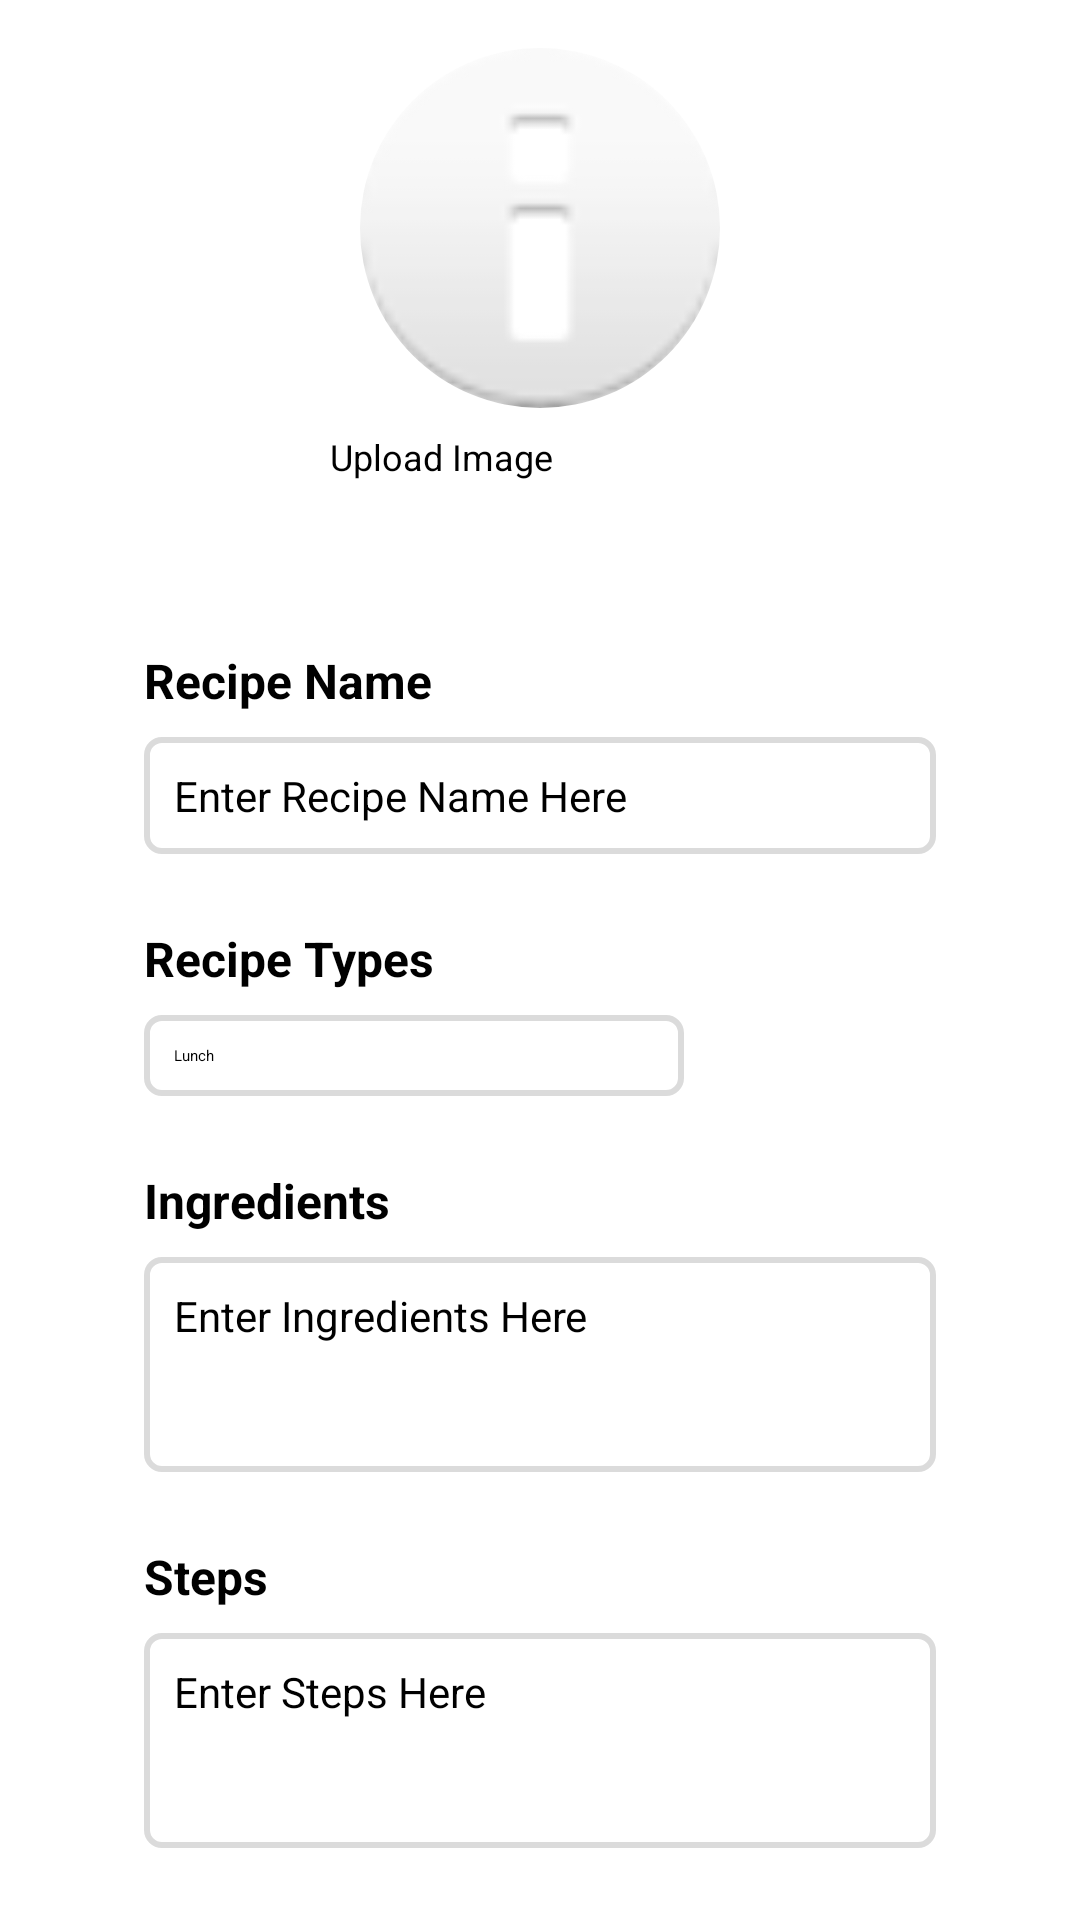

Icons on this 1080px x 1920px Android screen, each with its box as (x1, y1, x2, y2):
info: (362, 114, 718, 408)
